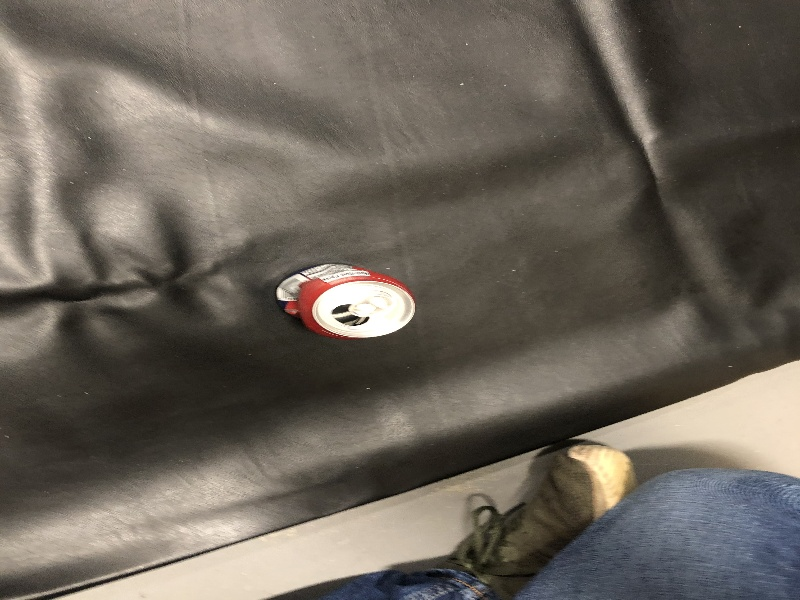metal: (270, 255, 428, 350)
